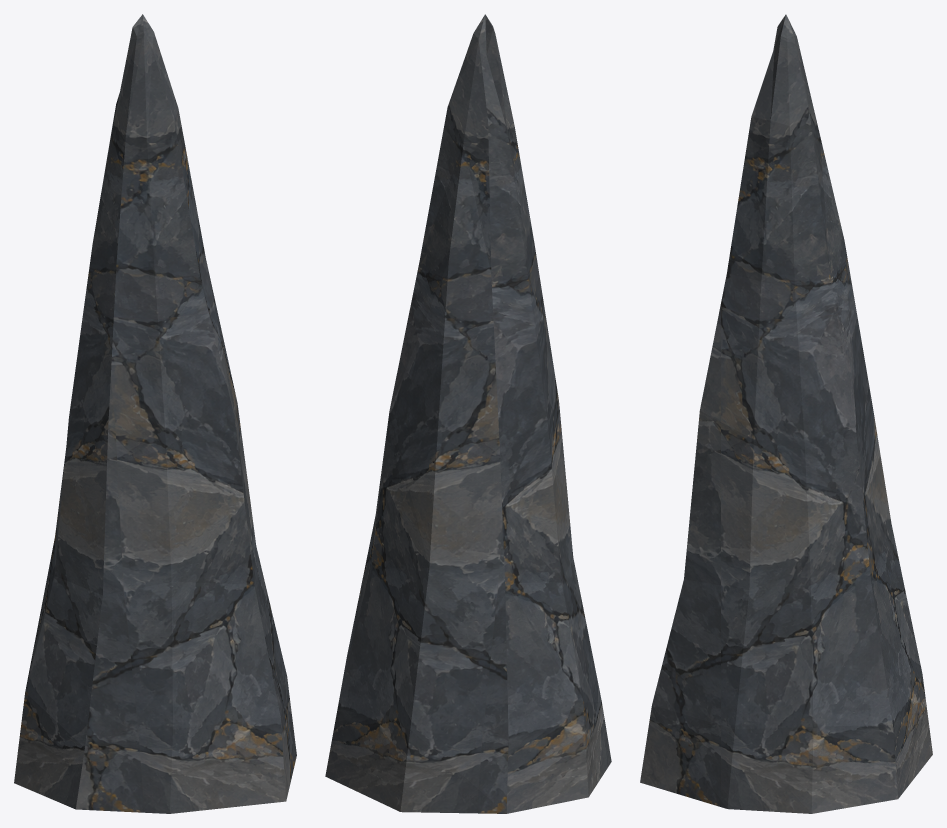
The model's file is Cave_R13_Stalagmite.fbx.
3 views of the same model, side by side, from view 1: azimuth 30°, elevation 25°; view 2: azimuth 150°, elevation 25°; view 3: azimuth 270°, elevation 25° (orthographic).
Visible parts, largest first — view 1: Cave_R13_Stalagmite_LOD0; view 2: Cave_R13_Stalagmite_LOD0; view 3: Cave_R13_Stalagmite_LOD0.
Boxes of the visible parts, box(x1,y1,x2,y2) form: Cave_R13_Stalagmite_LOD0: box(14, 14, 296, 813); Cave_R13_Stalagmite_LOD0: box(325, 14, 611, 813); Cave_R13_Stalagmite_LOD0: box(640, 14, 932, 813).
Size of what is drawn, in the model's own units: 0.8309 by 2.37 by 0.8566.
Materials: 1 (1 with a texture image).
